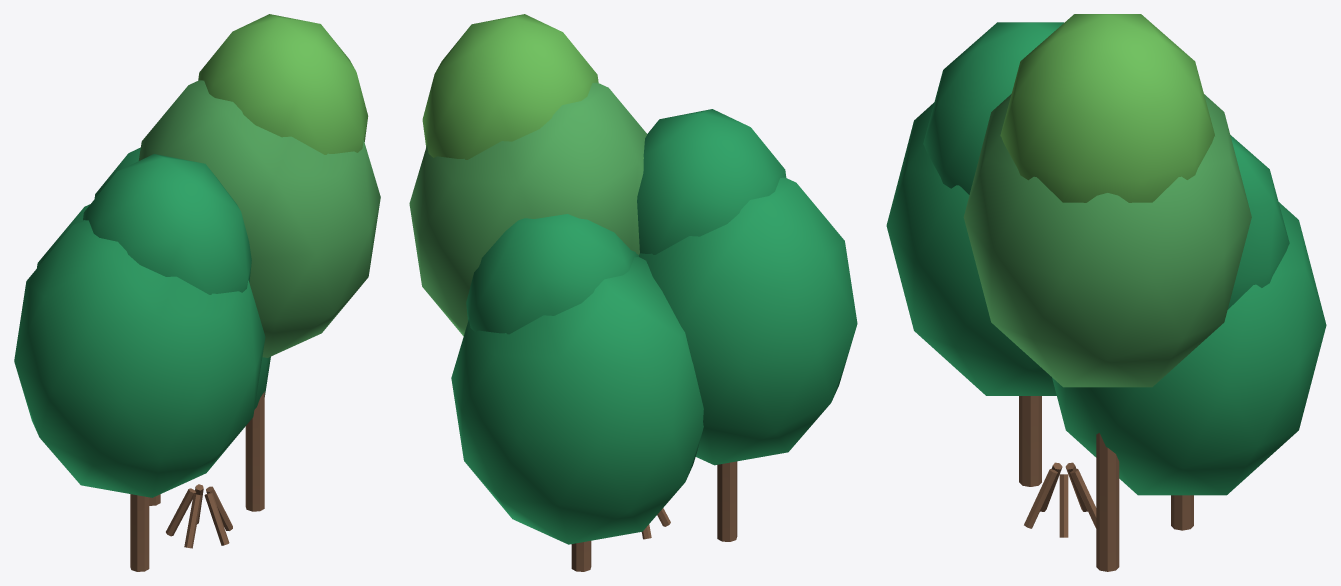
Rendered from tree-thicket.glb.
The picture shows the model from 3 angles, left to right: view 1: azimuth 30°, elevation 25°; view 2: azimuth 150°, elevation 25°; view 3: azimuth 270°, elevation 25°; orthographic projection. The views are drawn at different scales.
Visible parts, largest first — view 1: rounded crown, rounded crown.002, rounded crown.003, branch; view 2: rounded crown, rounded crown.002, rounded crown.003, branch; view 3: rounded crown, rounded crown.002, rounded crown.003, branch.
Boxes of the visible parts, <box> form: rounded crown: <box>14,147,270,497</box>; rounded crown.002: <box>138,80,380,357</box>; rounded crown.003: <box>198,14,368,154</box>; branch: <box>130,391,264,571</box>; rounded crown: <box>451,109,857,544</box>; rounded crown.002: <box>409,82,647,335</box>; rounded crown.003: <box>422,14,598,159</box>; branch: <box>571,461,737,571</box>; rounded crown: <box>886,22,1326,495</box>; rounded crown.002: <box>963,94,1251,387</box>; rounded crown.003: <box>1000,14,1214,202</box>; branch: <box>1019,396,1193,571</box>.
Bounding box in the file's own units: 1.9 × 2.43 × 1.71.
